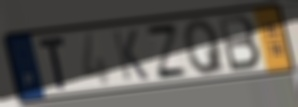4: (81, 31, 113, 88)
B: (215, 13, 263, 75)
K: (110, 28, 151, 83)
Q: (181, 17, 229, 77)
T: (35, 35, 68, 92)
Z: (143, 22, 191, 80)
